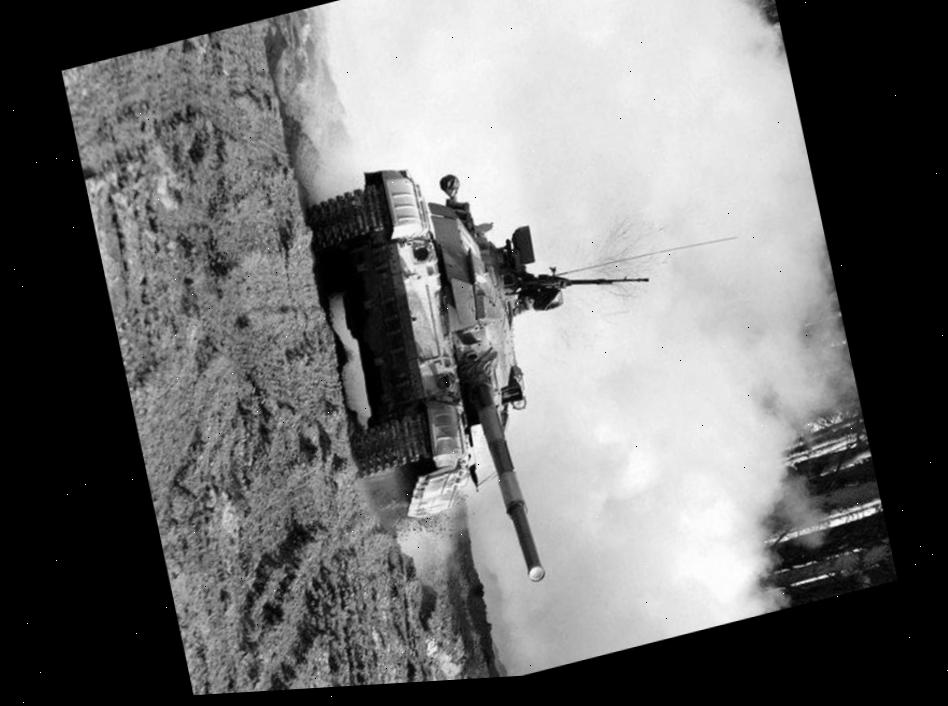tank: (294, 118, 626, 624)
